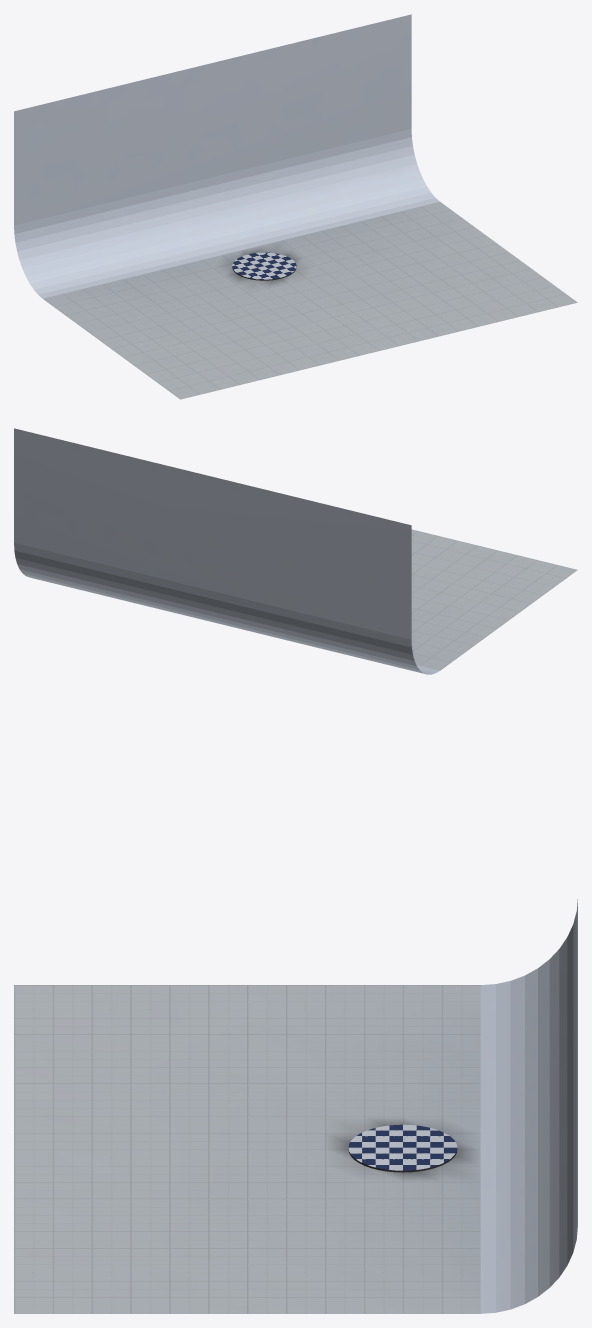
Rendered from lab.glb.
3 views of the same model, one above another, from view 1: azimuth 30°, elevation 25°; view 2: azimuth 150°, elevation 25°; view 3: azimuth 270°, elevation 25° (orthographic). The views are drawn at different scales.
Visible parts, largest first — view 1: lab; view 2: lab; view 3: lab.
Boxes of the visible parts, box(x1,y1,x2,y2) form: lab: box(14, 14, 577, 399); lab: box(14, 428, 577, 674); lab: box(14, 899, 577, 1313).
Bounding box in the file's own units: 20 × 8 × 14.5.
Materials: 4 (4 with a texture image).
